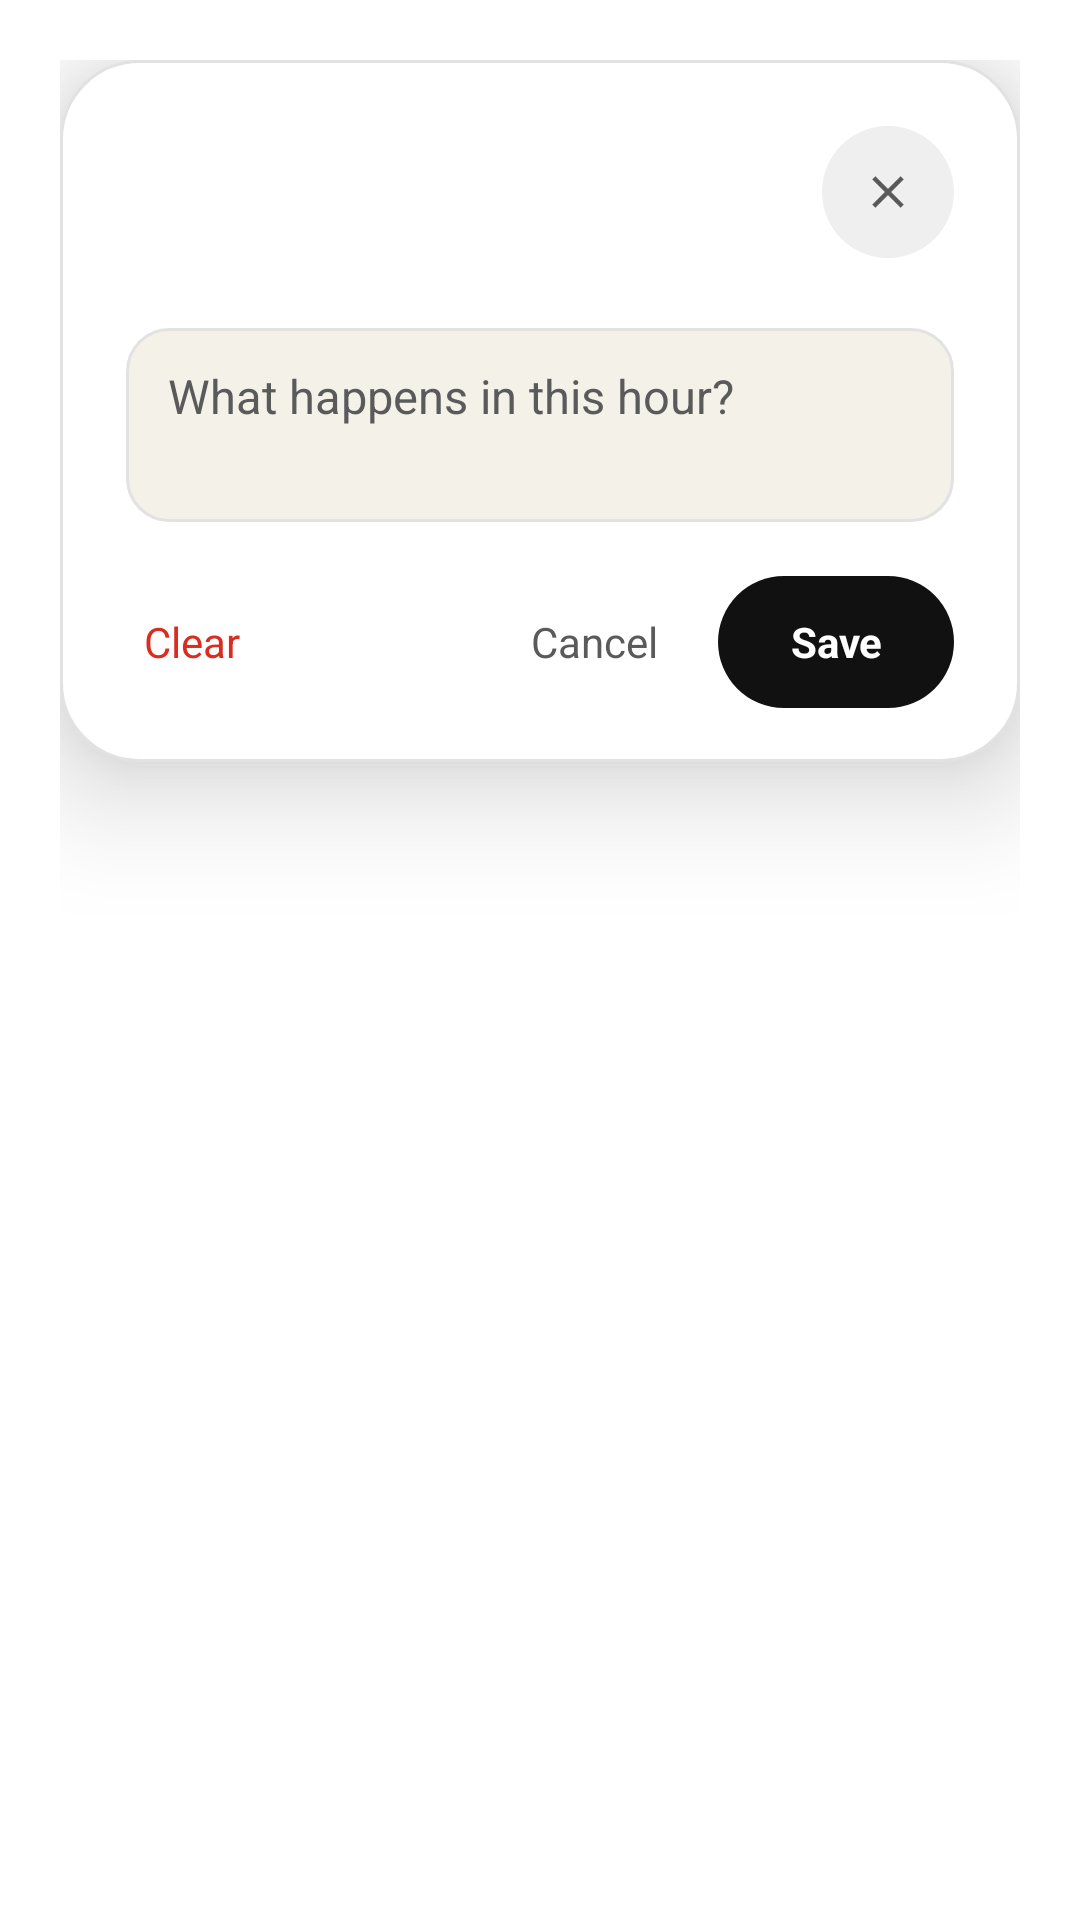

Icons on this 1080x1920 Android screen, each with the point to tap as [x,y]:
Close: [888,192]
